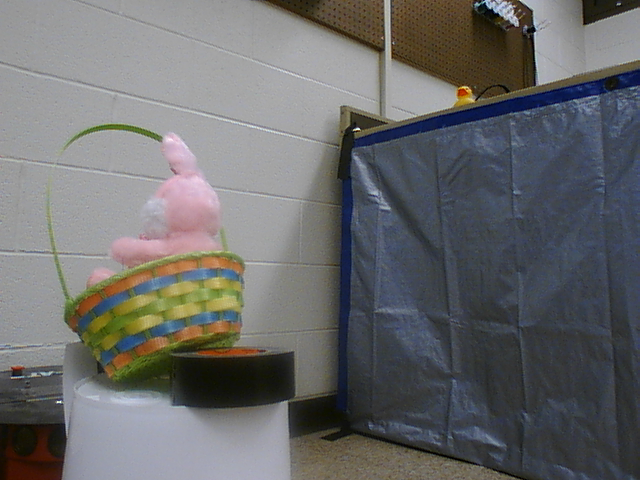bunny: (34, 118, 250, 386)
